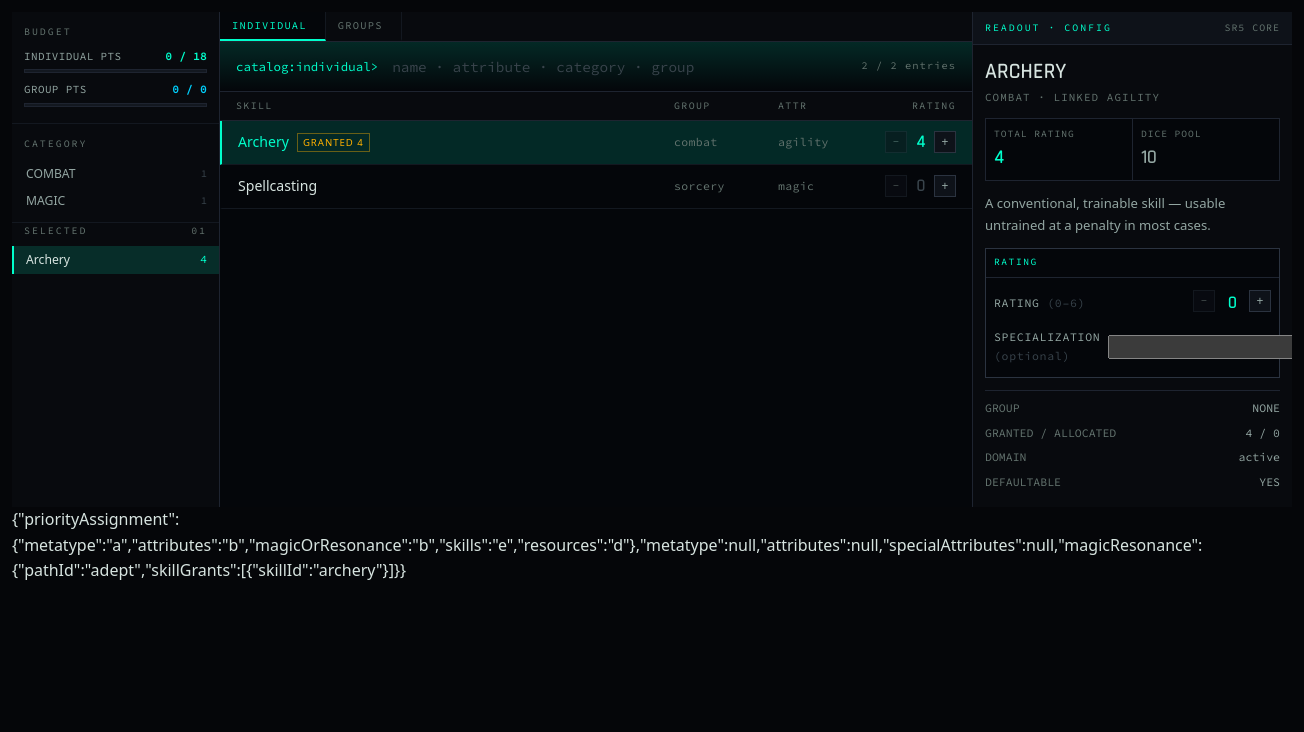
Test case: reported character creation issues › filters individual skills by category and searchable metadata
Click the button with aria-label "COMBAT (1)": (116, 173) [12, 160, 219, 186]
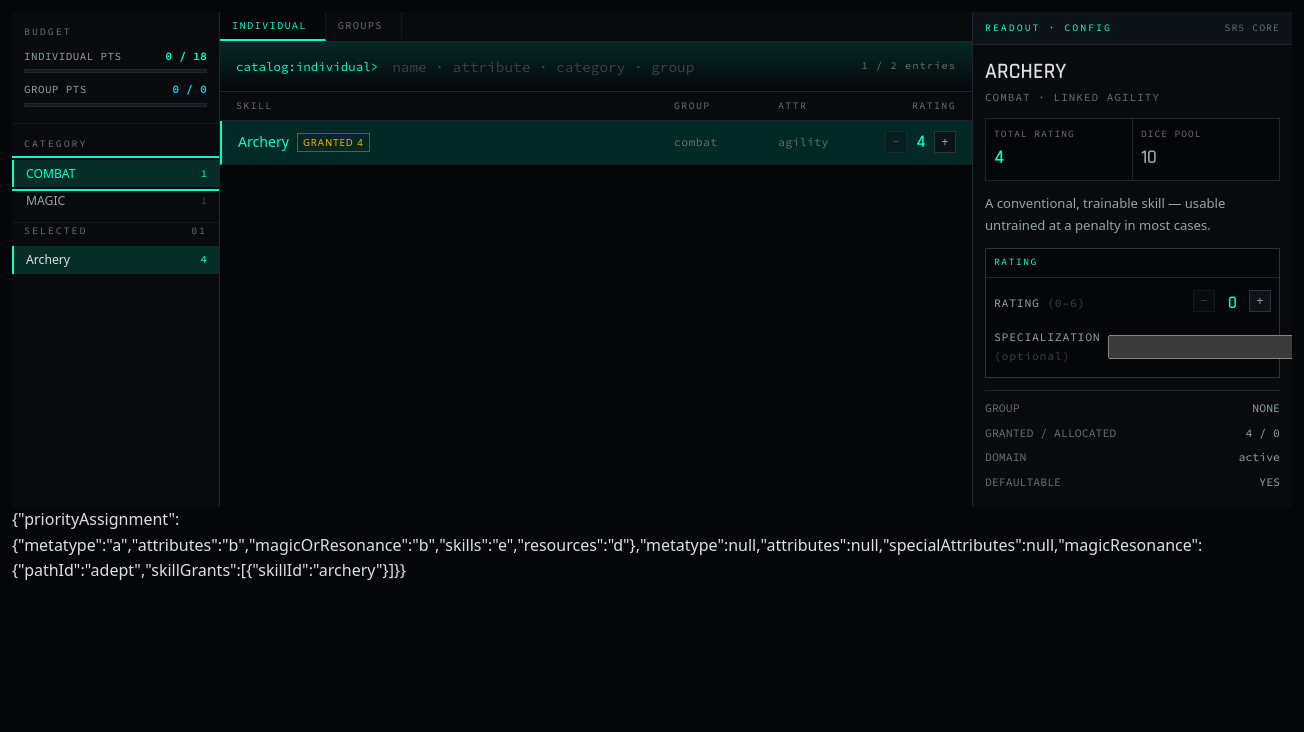
Expected: the button named "Increase Archery" is shown, [934, 131, 956, 153]
In the search field named "Search skills": (620, 66) [390, 56, 849, 76], type "magic"
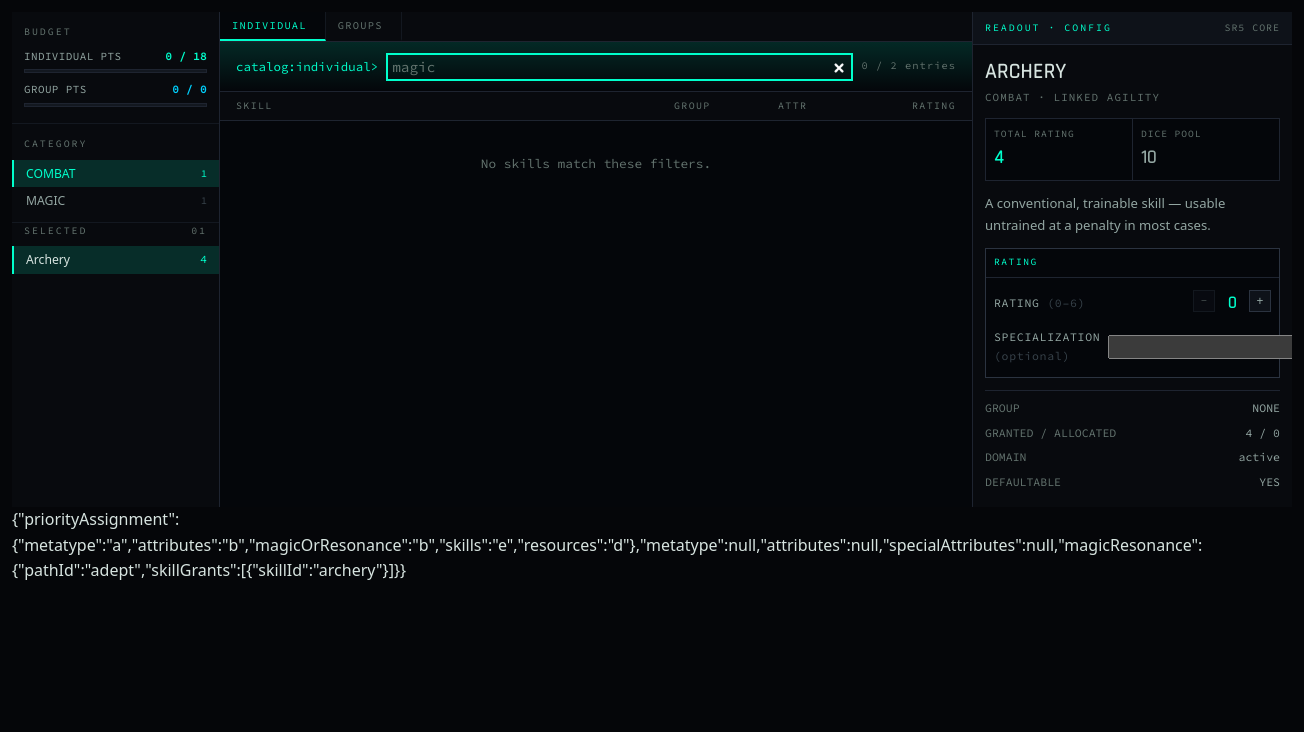
Now the text "No skills match these filters." is shown, box [481, 155, 711, 171]
